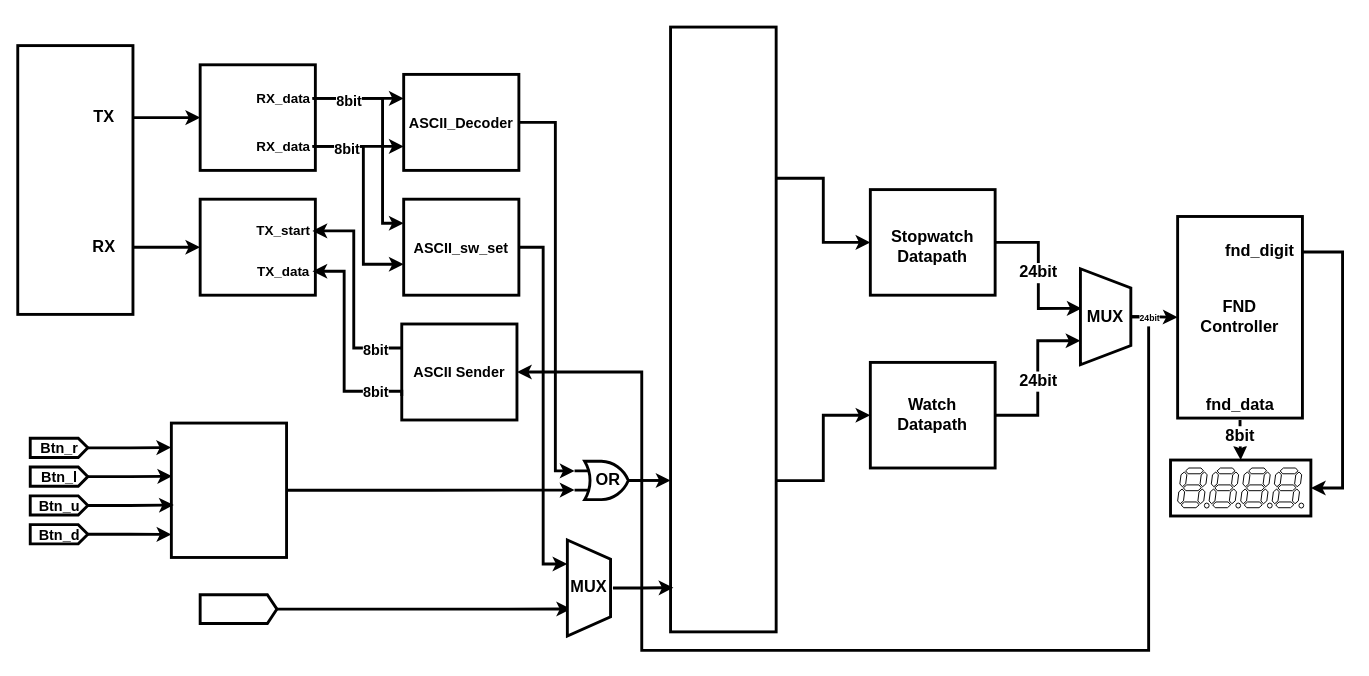
Some shapes in this 1369 by 676 pixel diagram are drawn without their labels. Each missing label, with the centre of its shape:
"Btn_Debounce" belongs at (228,489).
"Control Unit" belongs at (723,329).
"sw[3:0]" belongs at (238,608).
